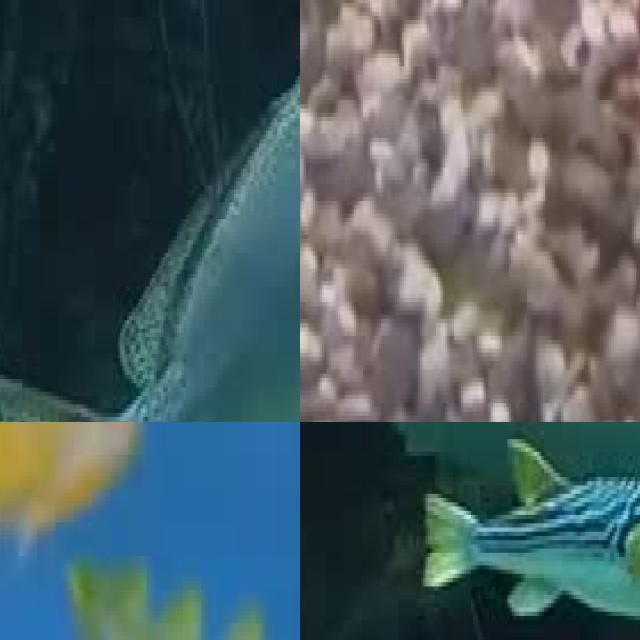fish: (0, 0, 300, 422), (0, 422, 203, 640)
